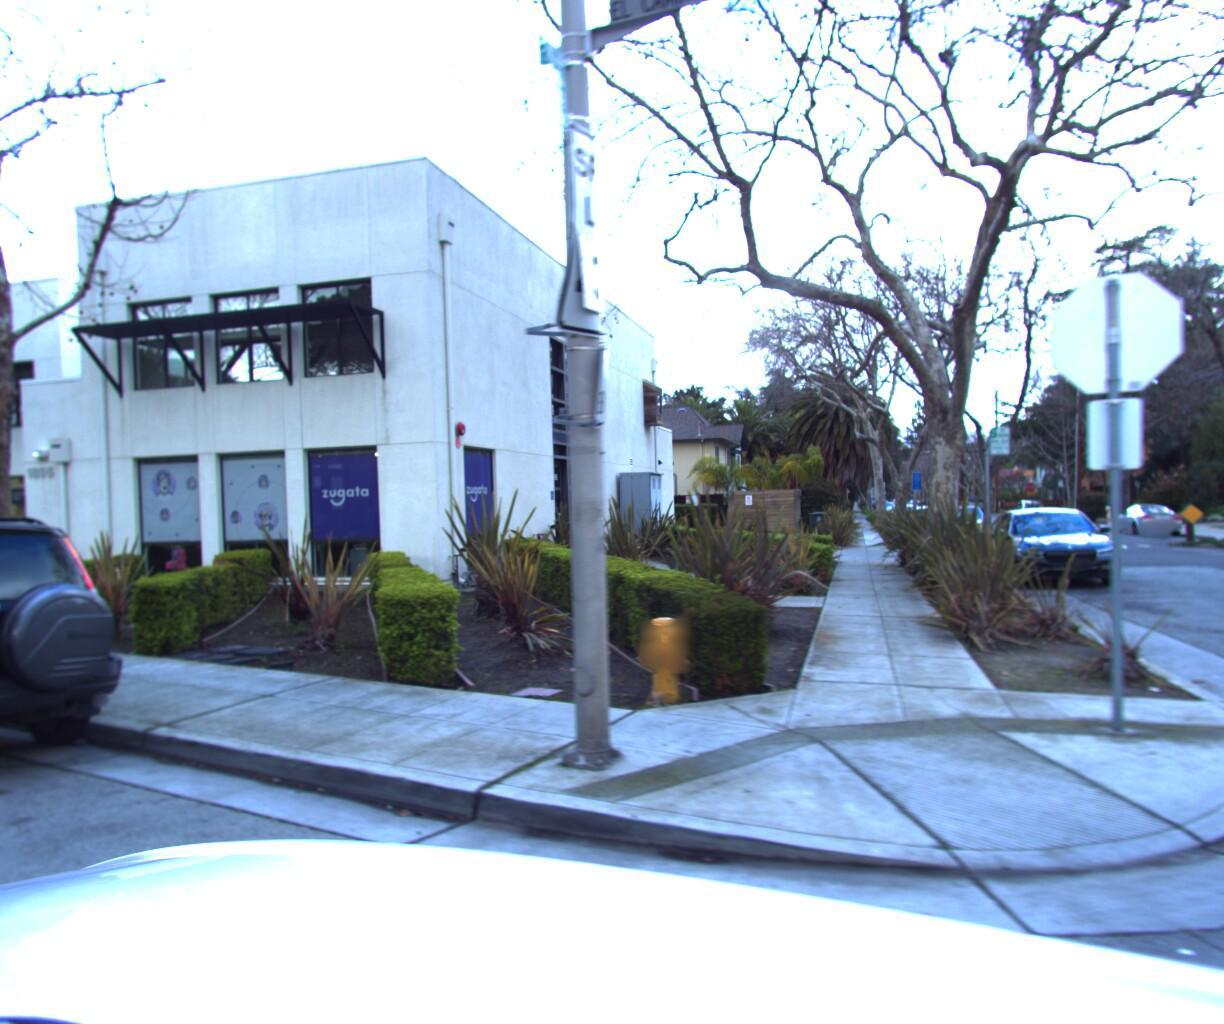car: (0, 486, 173, 837), (972, 503, 1147, 594), (1106, 498, 1186, 533), (1007, 497, 1048, 518)
